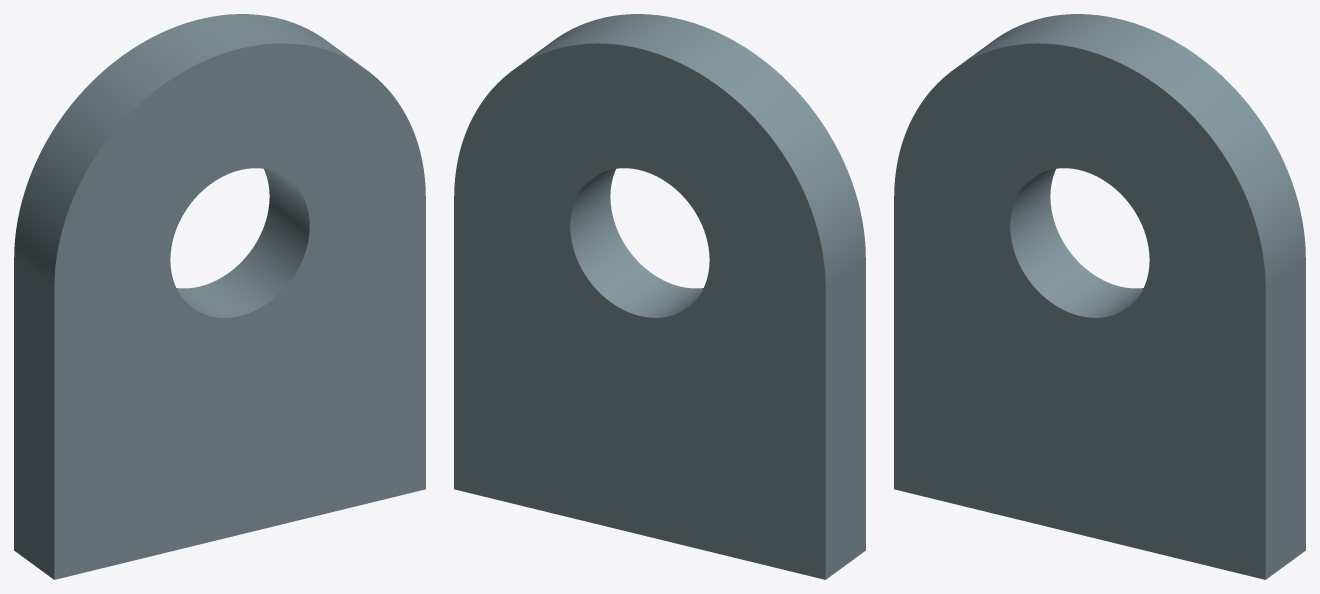
File: esp2023_p07_lifting_lug.glb
The picture shows the model from 3 angles, left to right: view 1: azimuth 30°, elevation 25°; view 2: azimuth 150°, elevation 25°; view 3: azimuth 330°, elevation 25°; orthographic projection.
Visible parts, largest first — view 1: lifting lug; view 2: lifting lug; view 3: lifting lug.
Boxes of the visible parts, x1,y1,x2,y2 form: lifting lug: (14, 14, 425, 579); lifting lug: (454, 14, 865, 579); lifting lug: (894, 14, 1305, 579).
Size of the model in its own units: 160 by 200 by 30.
